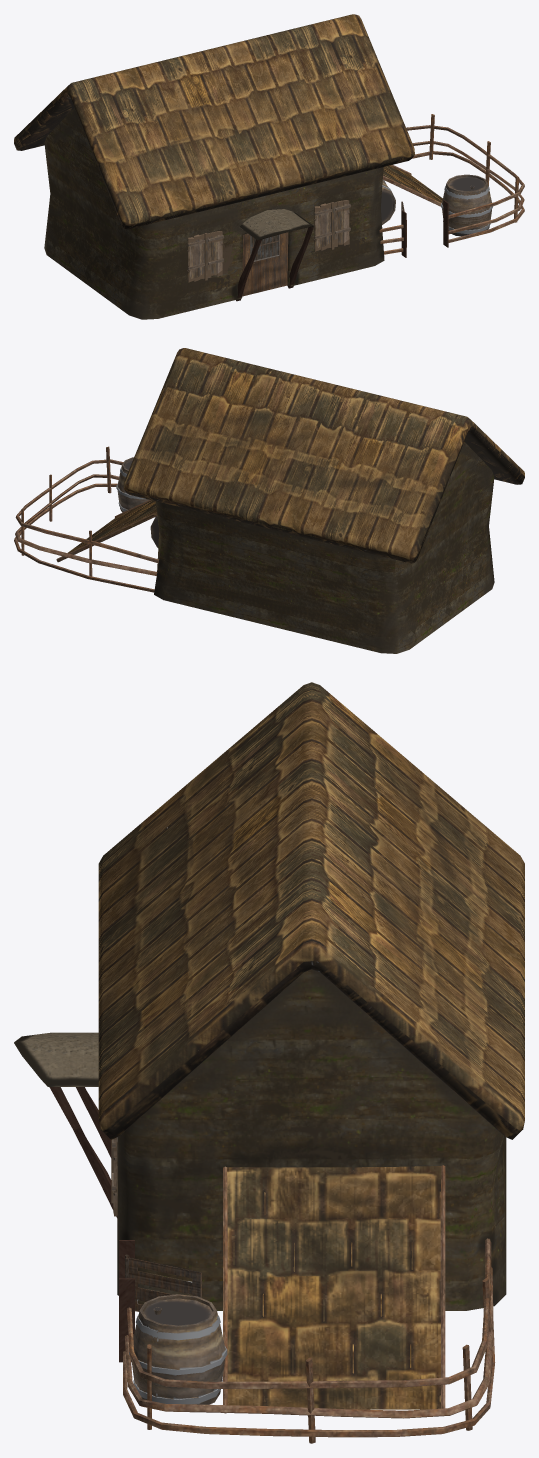
Rendered from medieval home.fbx.
3 views of the same model, one above another, from view 1: azimuth 30°, elevation 25°; view 2: azimuth 150°, elevation 25°; view 3: azimuth 270°, elevation 25° (orthographic). The views are drawn at different scales.
Parts seen in each view (by area): view 1: Cube.001; view 2: Cube.001; view 3: Cube.001.
Part boxes in pixels (left/top/right/bottom): Cube.001: left=14, top=14, right=524, bottom=319; Cube.001: left=14, top=348, right=524, bottom=653; Cube.001: left=14, top=682, right=524, bottom=1443.
Size of the model in its own units: 2012 by 947 by 1116.
Materials: 1 (1 with a texture image).
